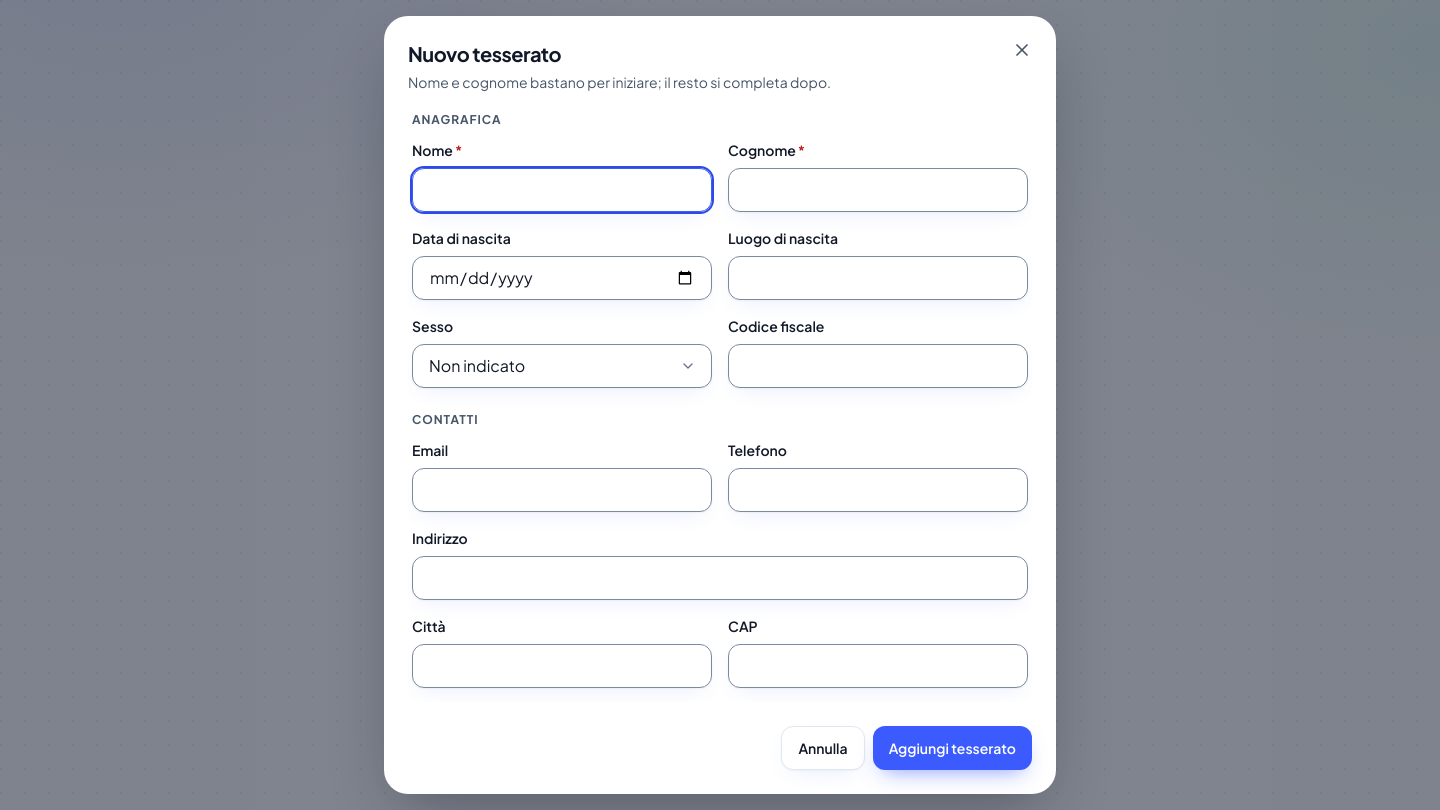
Test: MemberFormDialog (create) › rejects an invalid email and fiscal code length
Type "Sara" into the field labelled "Nome*" at (562, 190), box [412,168,712,212]
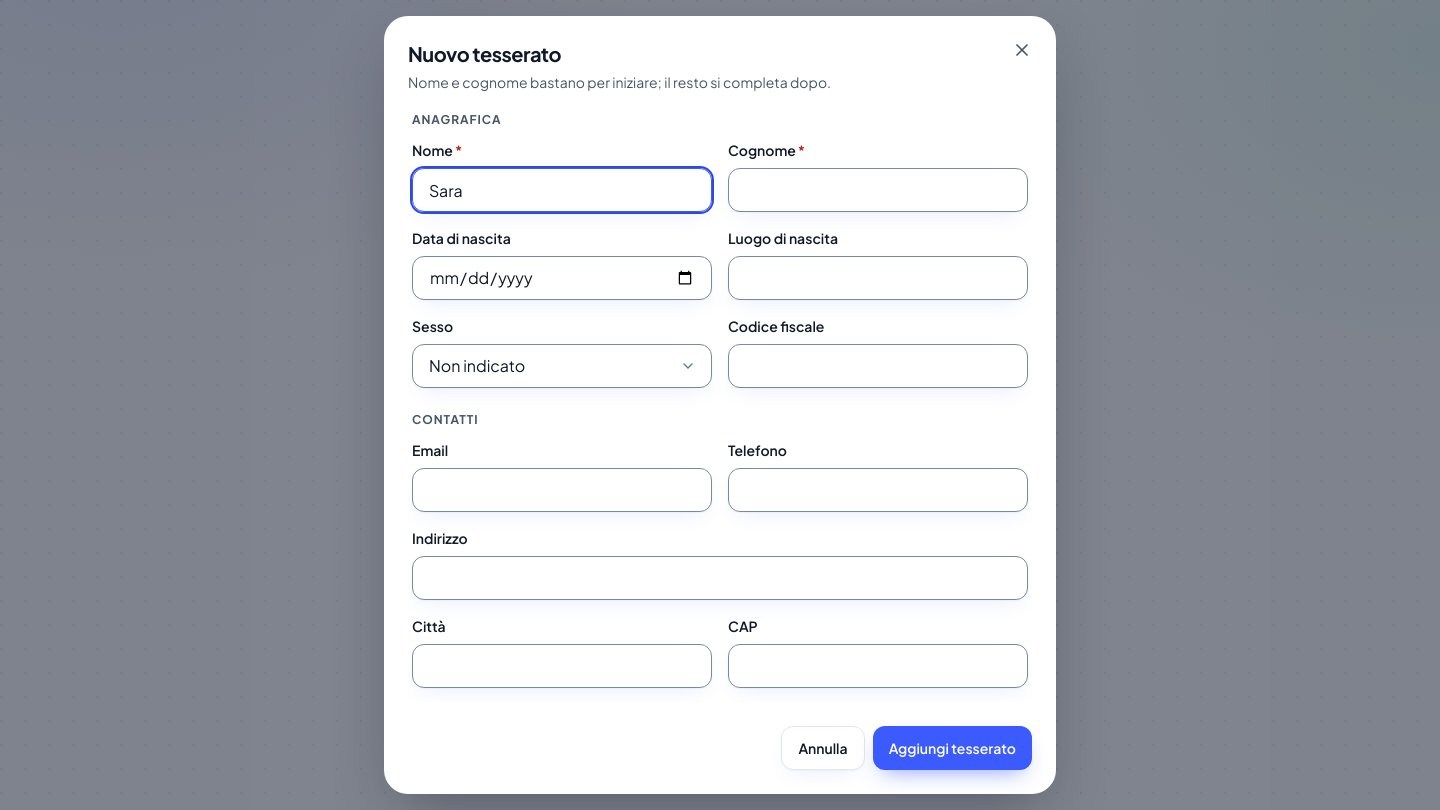
Type "Conti" into the field labelled "Cognome*" at (878, 190), box [728,168,1028,212]
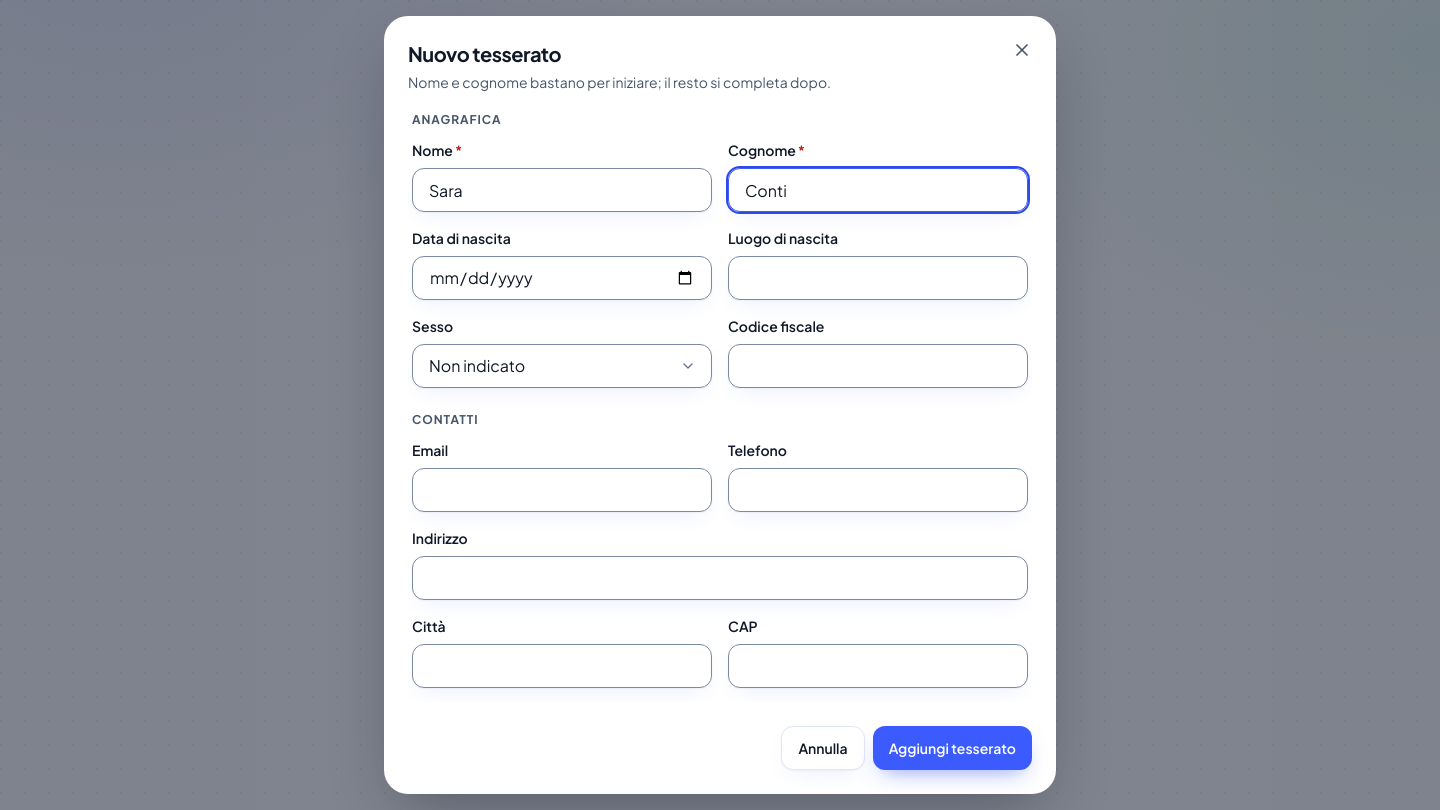
Type "non-una-email" into the field labelled "Email" at (562, 490), box [412,468,712,512]
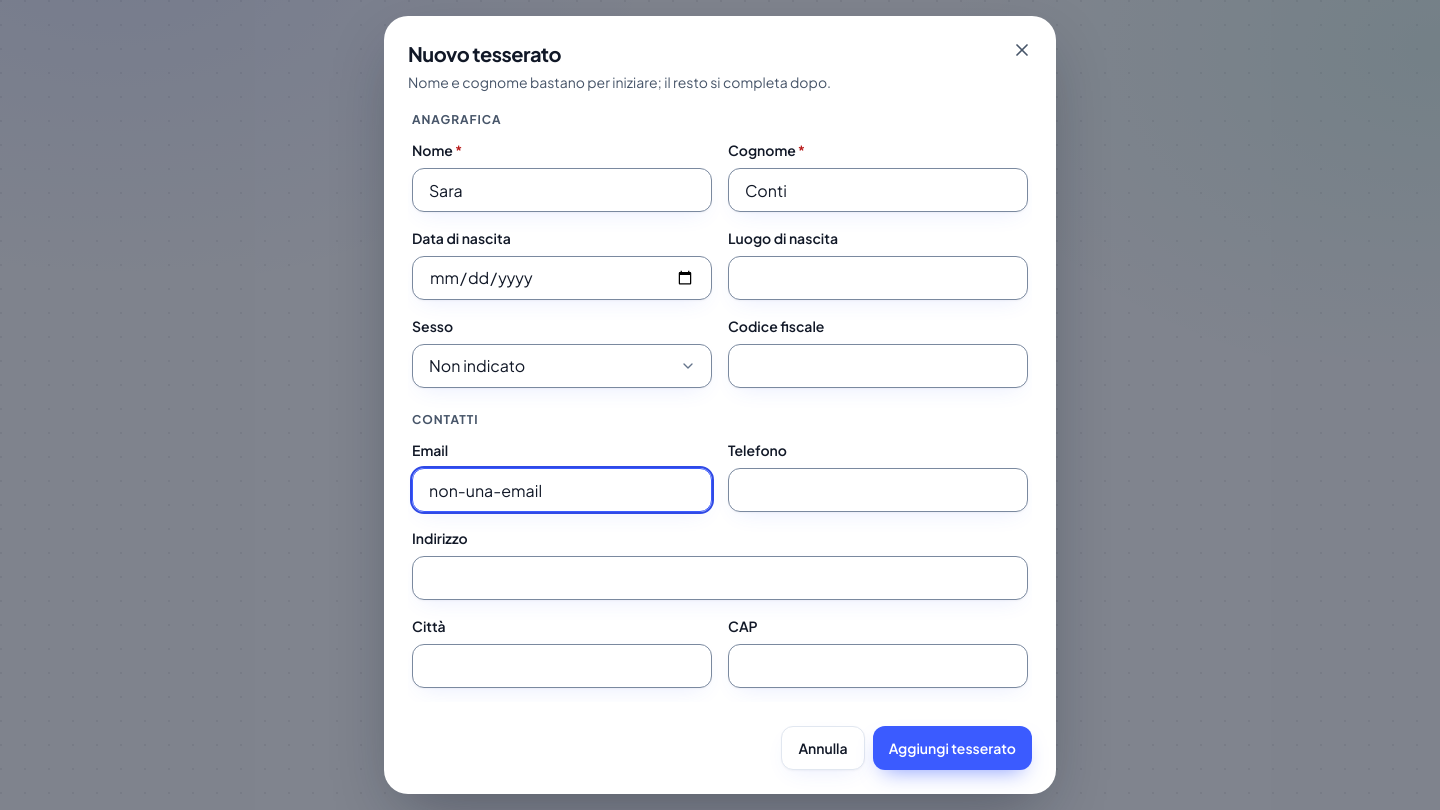
Type "ABC" into the field labelled "Codice fiscale" at (878, 366), box [728,344,1028,388]
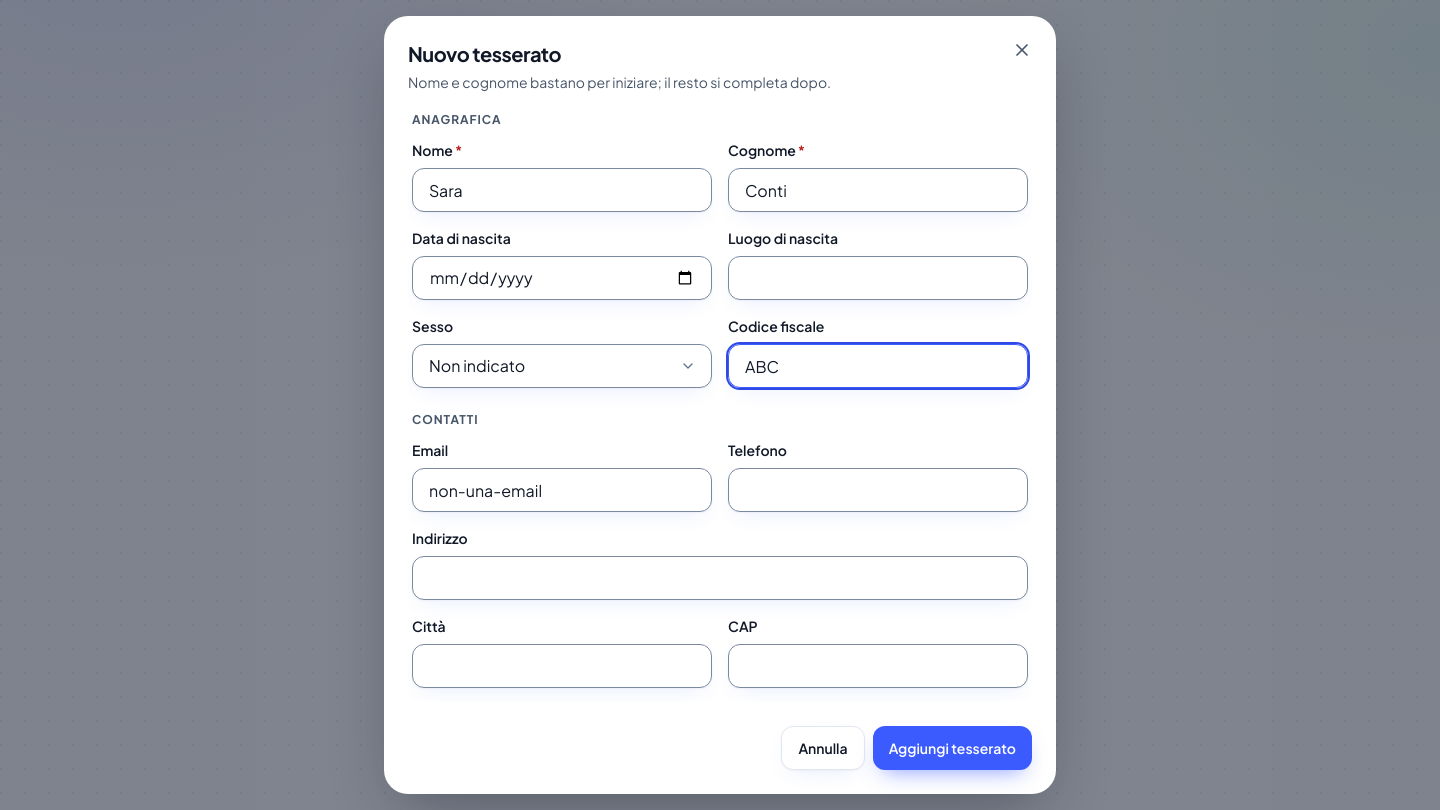
Click the button "Aggiungi tesserato" at (952, 748), box [873,726,1032,770]
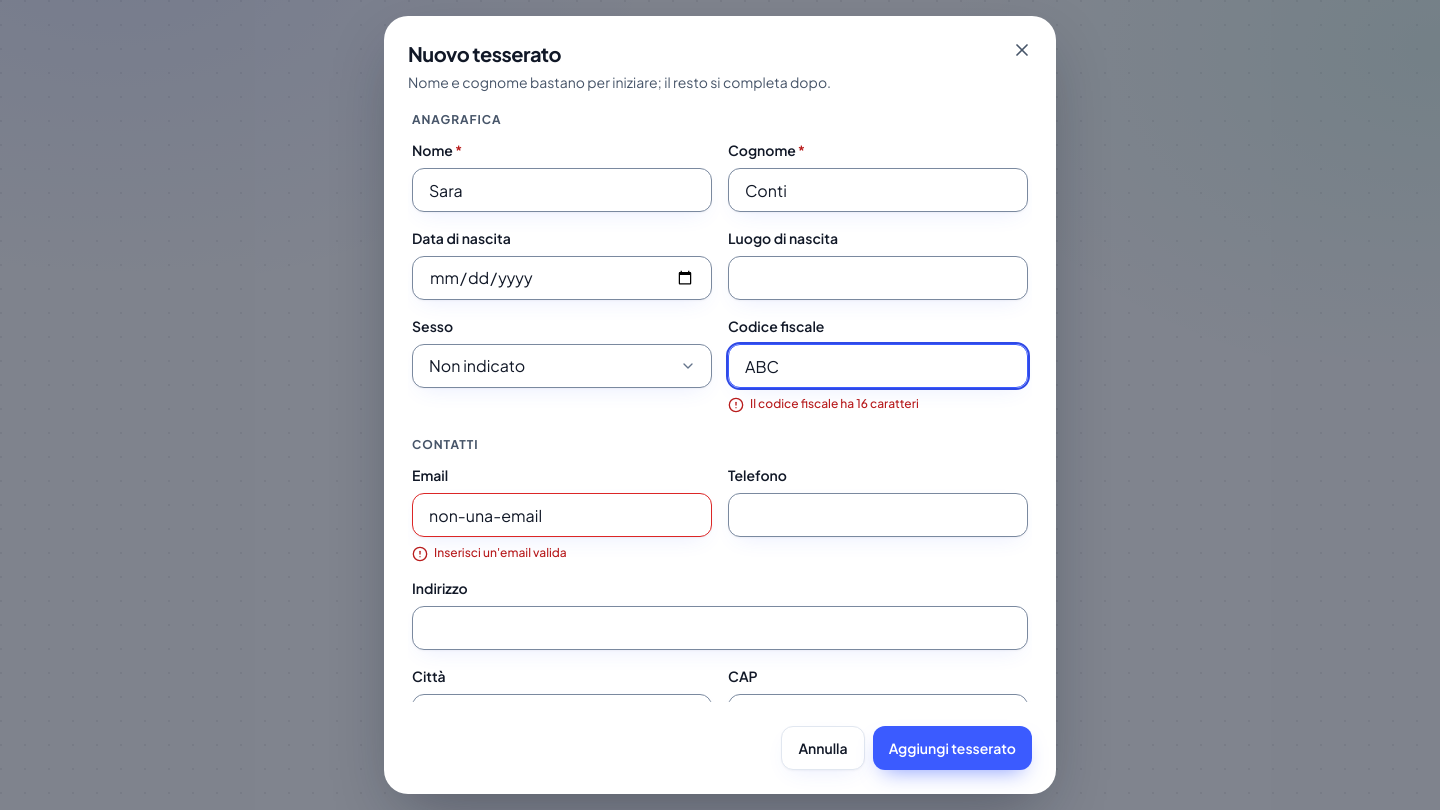
expect the text "Inserisci un'email valida" is shown: met, box [434,545,567,561]
expect the text "Il codice fiscale ha 16 caratteri" is shown: met, box [750,396,919,412]
